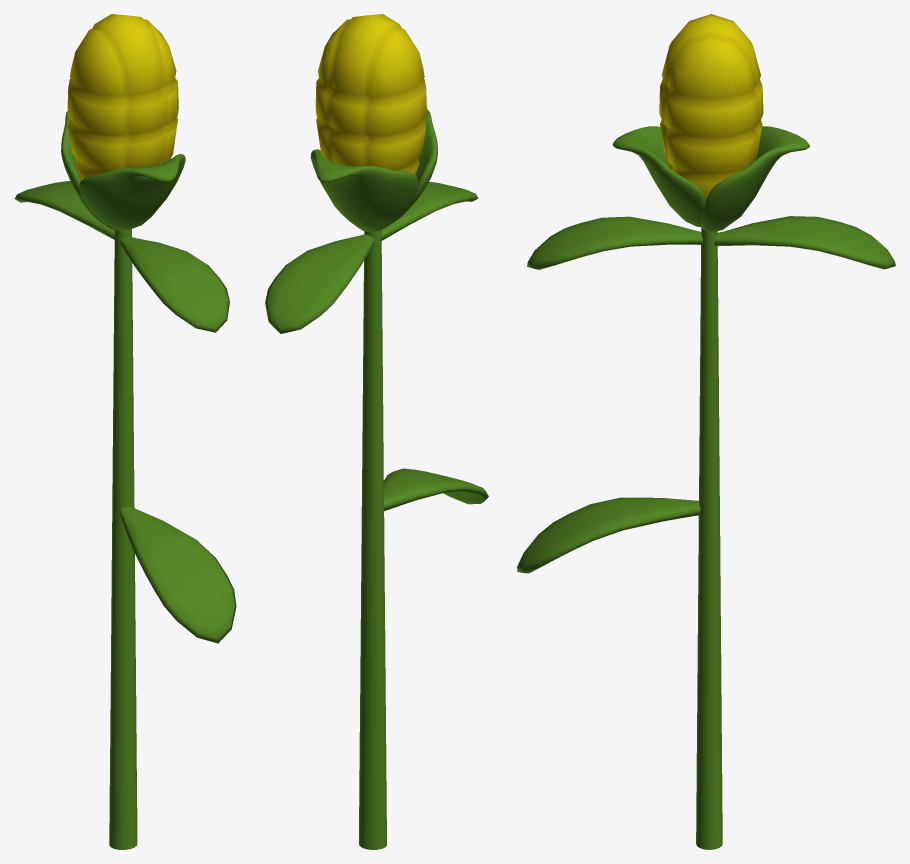
The model's file is prop28.fbx.
3 renders of one model, left to right at view 1: azimuth 30°, elevation 25°; view 2: azimuth 150°, elevation 25°; view 3: azimuth 270°, elevation 25°, orthographic.
Visible parts, largest first — view 1: Cylinder.032; view 2: Cylinder.032; view 3: Cylinder.032.
Part boxes in pixels (x1,y1,x2,y2): Cylinder.032: (14,14,236,849); Cylinder.032: (265,14,488,849); Cylinder.032: (517,14,895,849).
Bounding box in the file's own units: 0.2362 × 0.7769 × 1.87.
